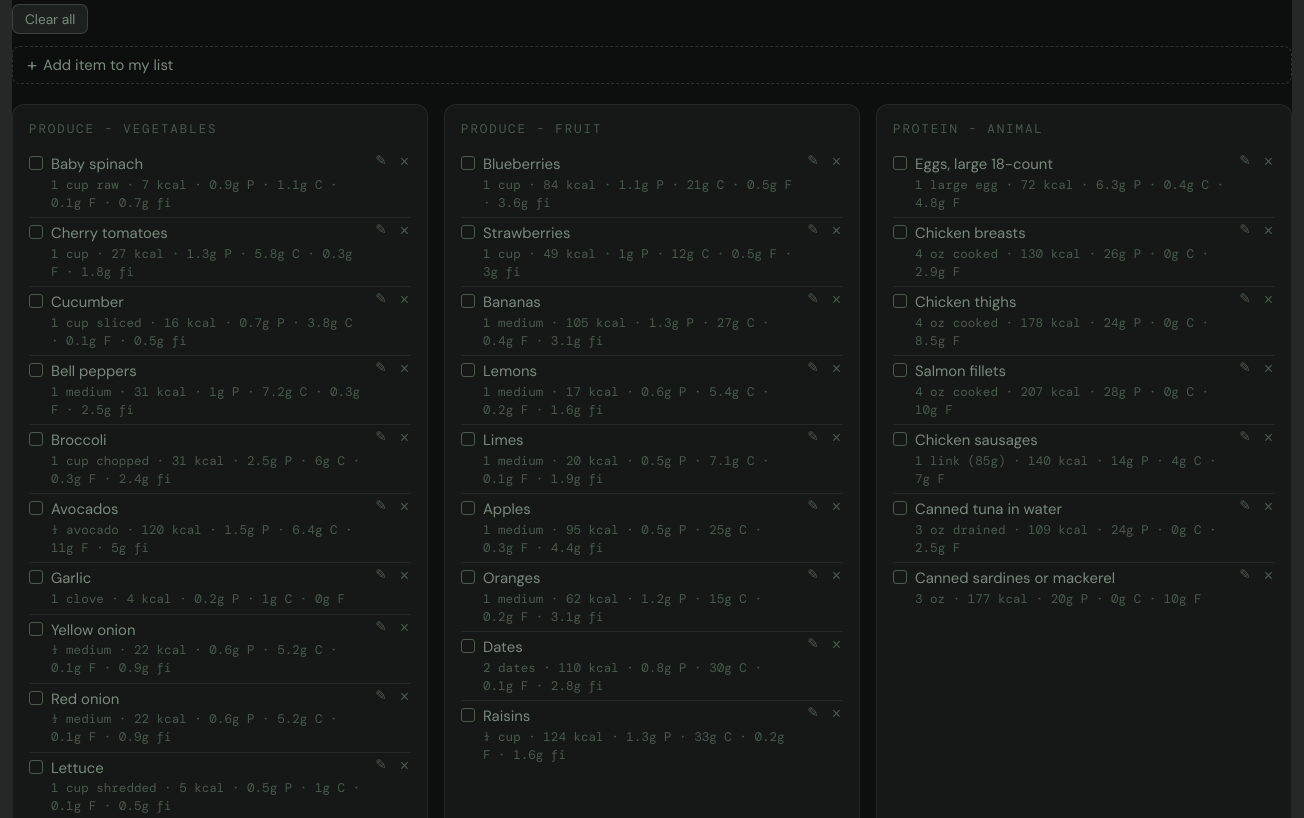
Scenario: GroceryPanel — dynamic catalog › pressing Enter in the name field submits the form
The image size is (1304, 818).
Click the button with aria-label "add grocery item": (108, 65) [12,46,1292,84]
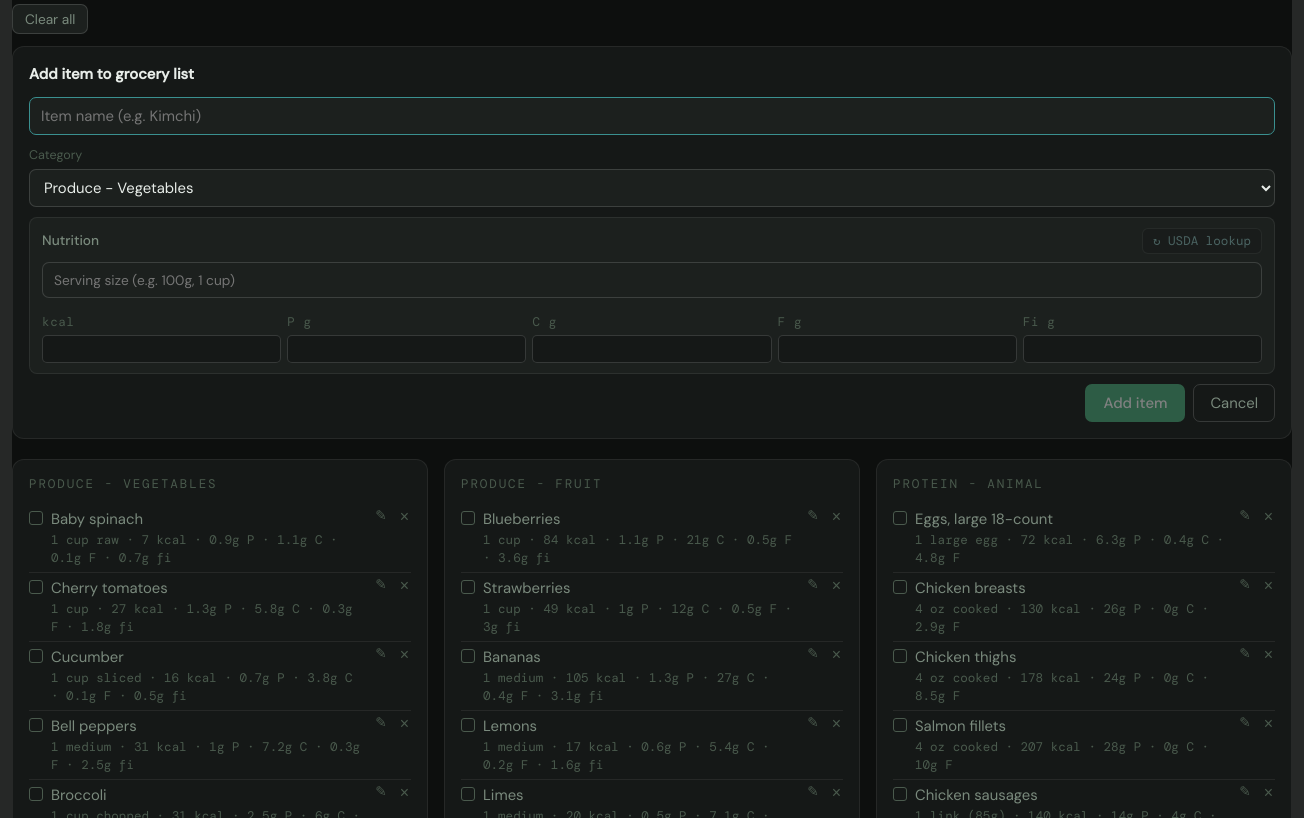
In the field with placeholder "Item name (e.g. Kimchi)": (652, 116) [29,97,1275,135], type "Sauerkraut"
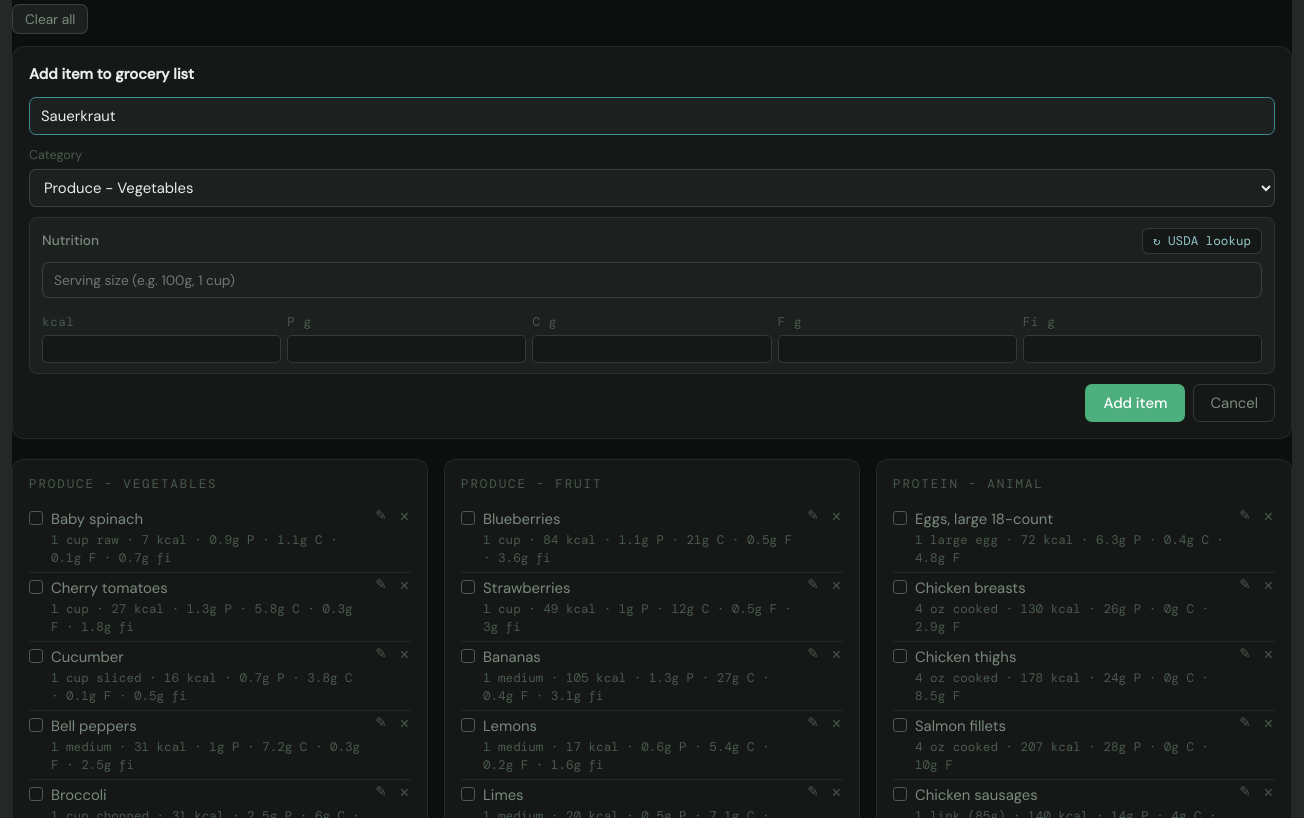
Press Enter in the field with placeholder "Item name (e.g. Kimchi)", box [29,97,1275,135]
(page scrolled)
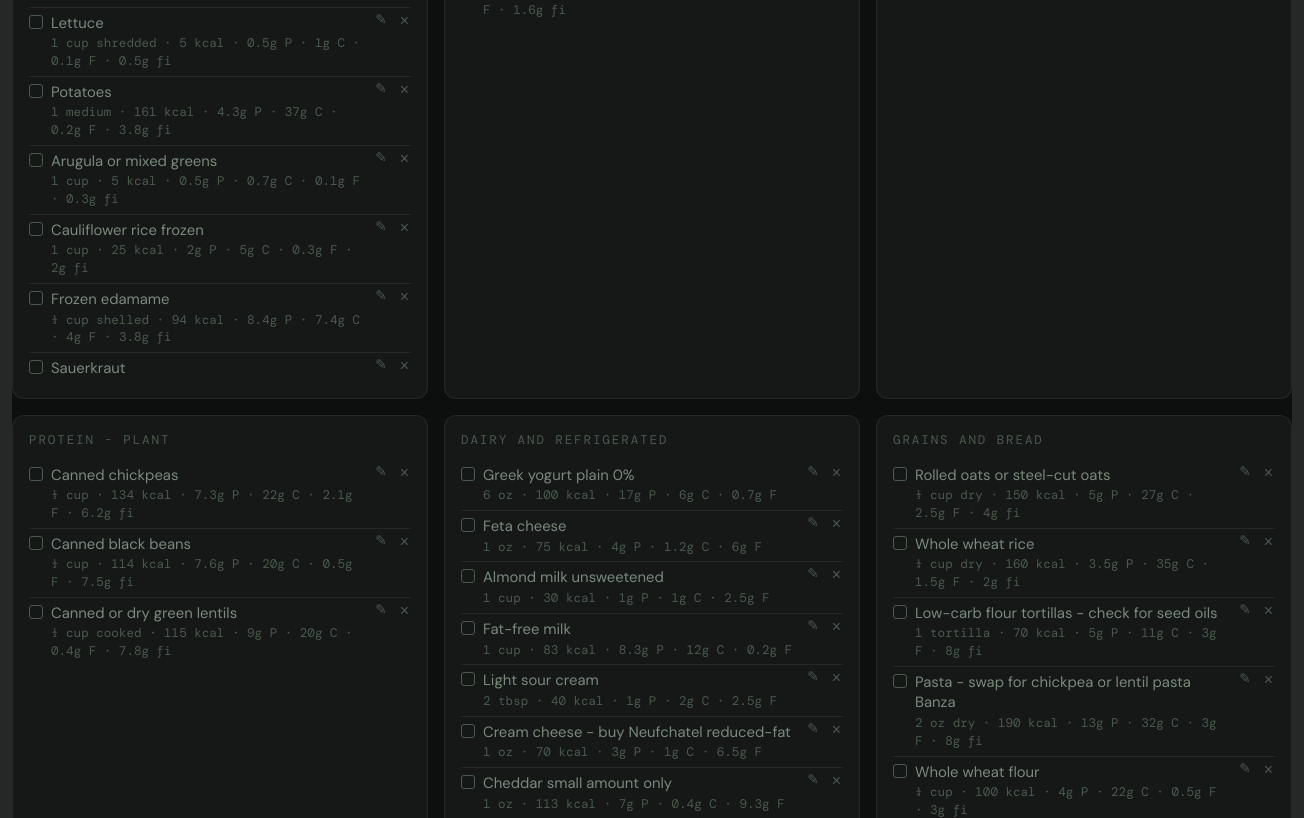
Expected: the text "Sauerkraut" is shown, [51,358,126,378]
